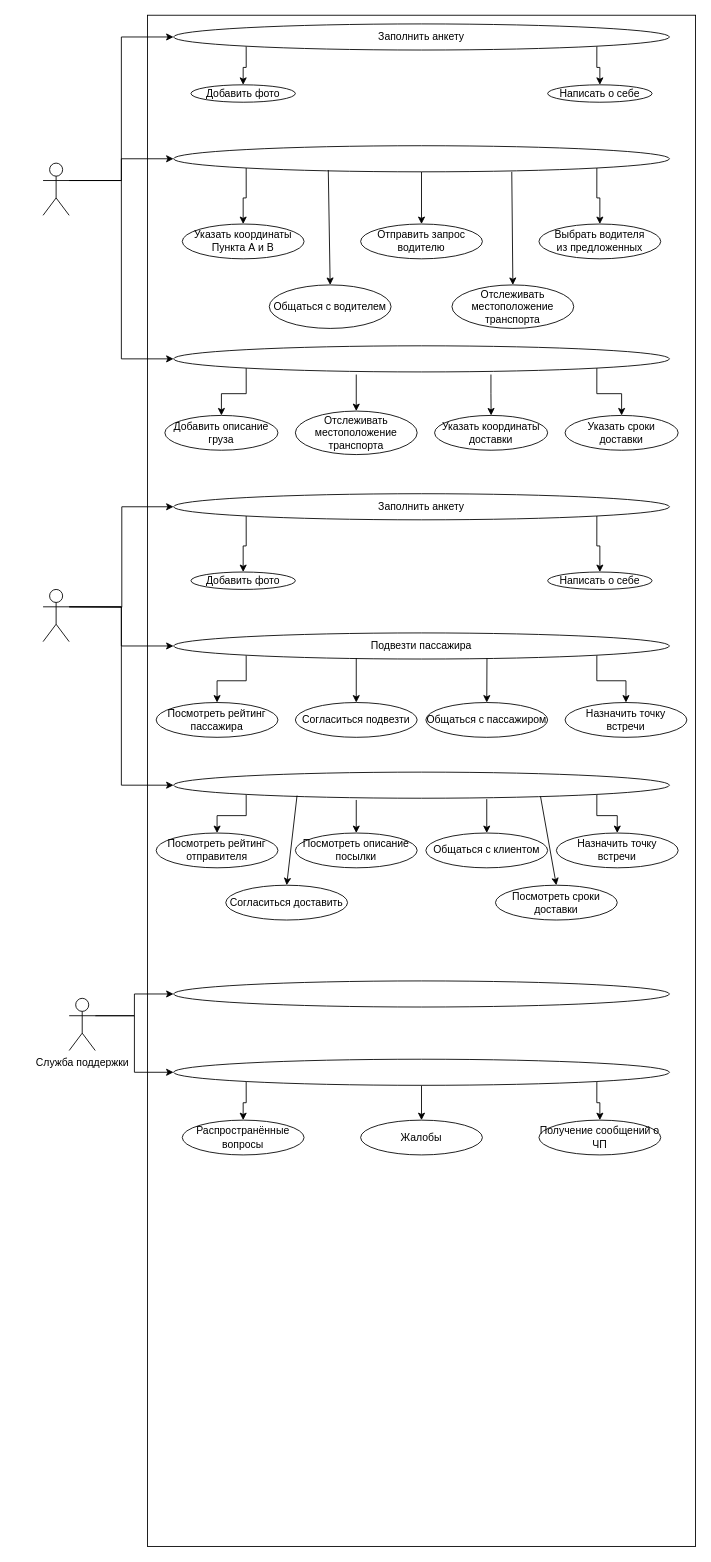
This 711x1562 diagram has some shape labels left out. Each missing label, with the centre of its shape:
"Дать объявление о доставке груза" goes at [421,358].
"Доставить груз" goes at [421,784].
"Клиент" goes at [55,188].
"Клиент-водитель" goes at [55,615].
"Ответ на вопросы пользователей" goes at [421,1071].
"Отправить запрос на транспорт" goes at [421,158].
"Помощь в использовании приложения" goes at [421,993].
